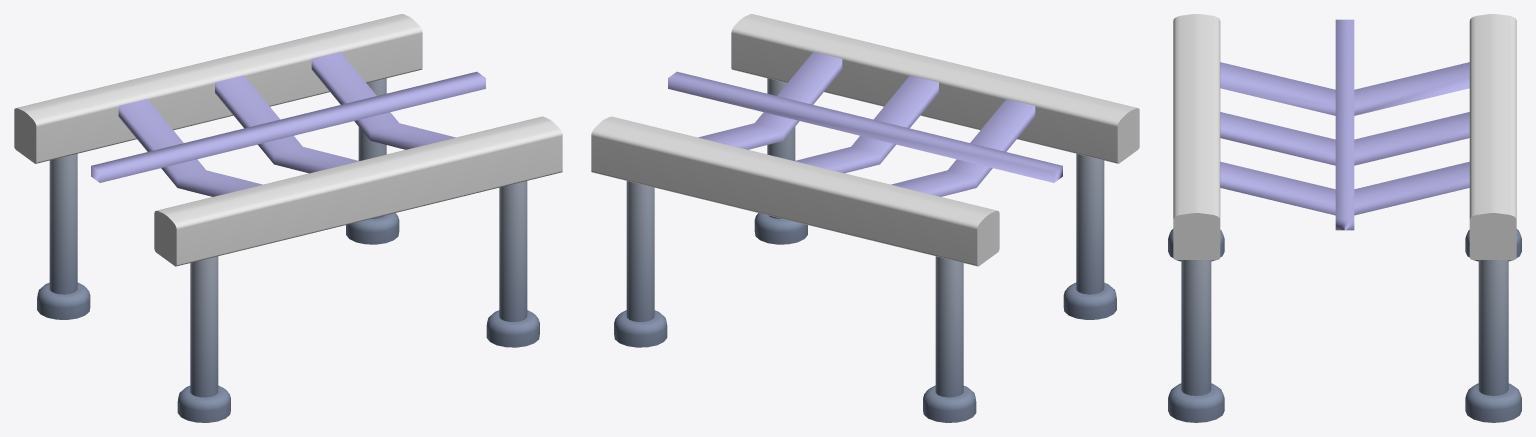
Rendered from New_Rail_Line.fbx.
3 views of the same model, side by side, from view 1: azimuth 30°, elevation 25°; view 2: azimuth 150°, elevation 25°; view 3: azimuth 270°, elevation 25° (orthographic). The views are drawn at different scales.
Visible parts, largest first — view 1: New_Rail_Line; view 2: New_Rail_Line; view 3: New_Rail_Line.
Part boxes in pixels (left/top/right/bottom): New_Rail_Line: left=14, top=14, right=562, bottom=422; New_Rail_Line: left=591, top=14, right=1139, bottom=422; New_Rail_Line: left=1168, top=14, right=1521, bottom=422.
Size of the model in its own units: 100 by 51 by 75.12.
